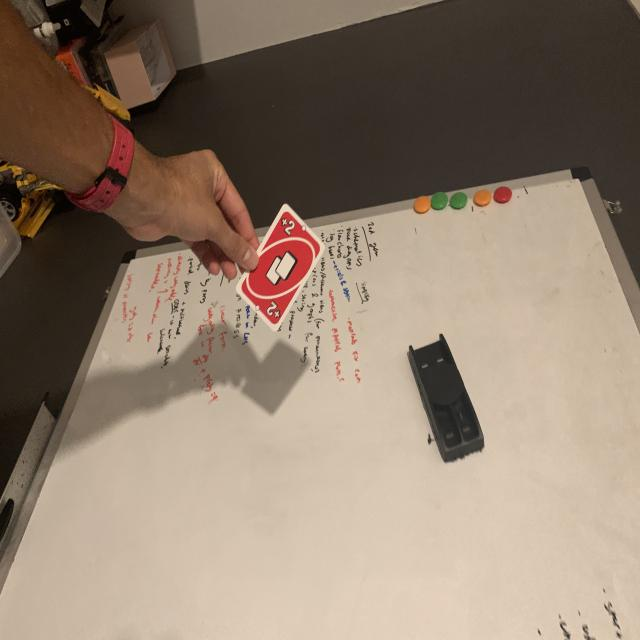lred-20: (278, 215, 296, 241)
